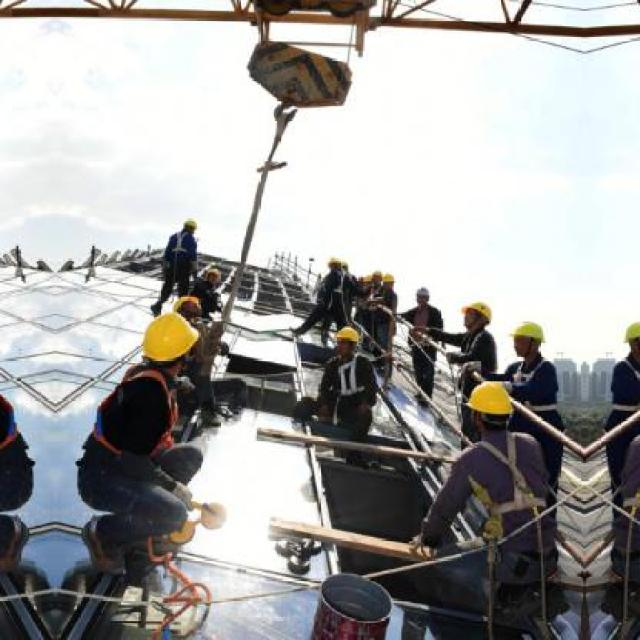helmet: (134, 308, 203, 375), (460, 376, 514, 436), (508, 316, 547, 358), (456, 296, 492, 336), (332, 324, 360, 362), (169, 290, 200, 324), (620, 315, 638, 360), (410, 283, 430, 308), (201, 266, 221, 286), (378, 270, 394, 290), (325, 254, 340, 274), (181, 218, 197, 235)
